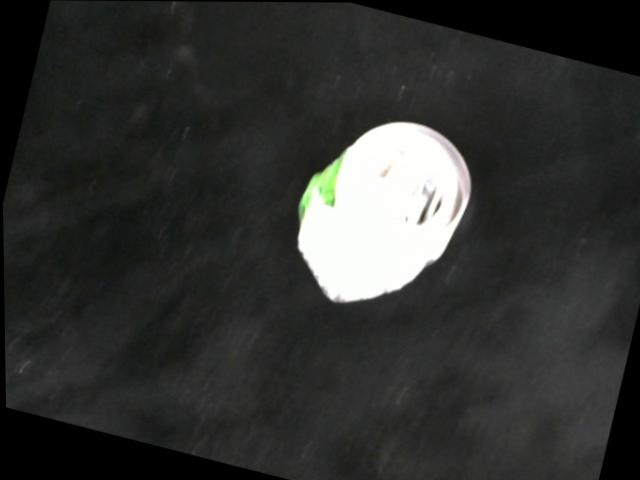can: (285, 117, 484, 309)
